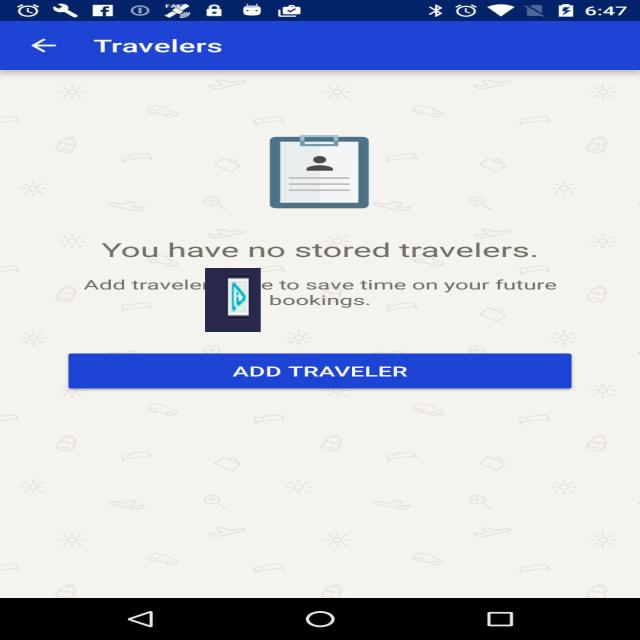sneaking: (205, 268, 261, 332)
